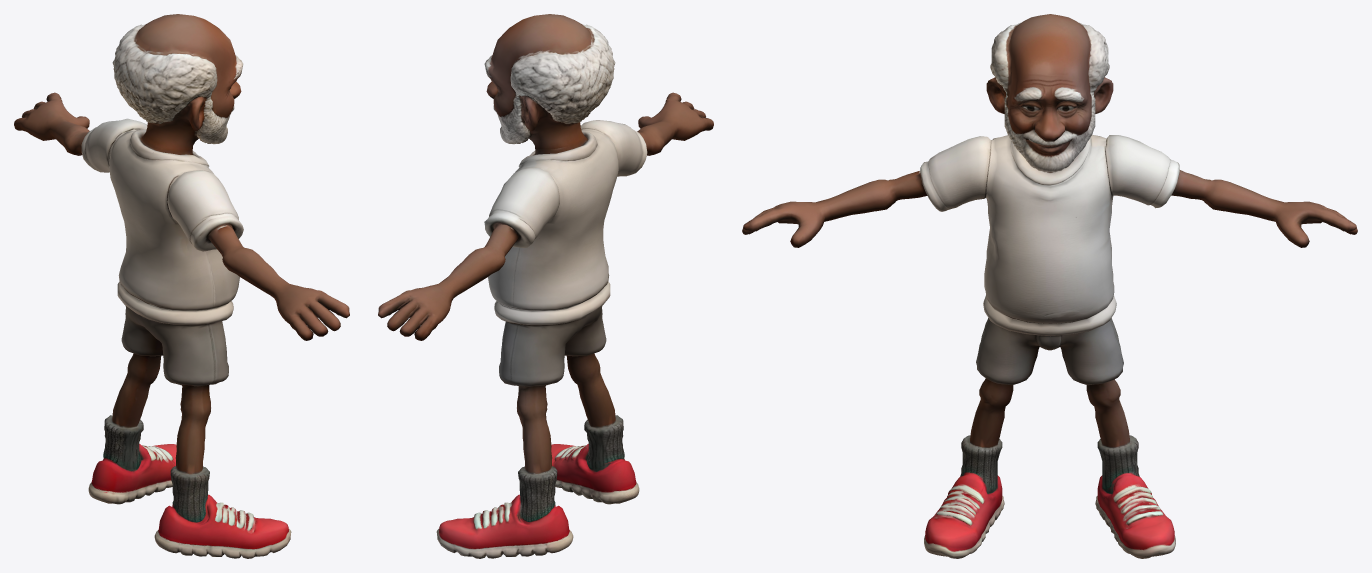
3 renders of one model, left to right at view 1: azimuth 30°, elevation 25°; view 2: azimuth 150°, elevation 25°; view 3: azimuth 270°, elevation 25°, orthographic. The views are drawn at different scales.
Parts seen in each view (by area): view 1: tripo_node_c8a2c946; view 2: tripo_node_c8a2c946; view 3: tripo_node_c8a2c946.
Boxes of the visible parts, left/top/right/bottom form: tripo_node_c8a2c946: left=14, top=14, right=349, bottom=558; tripo_node_c8a2c946: left=378, top=14, right=713, bottom=558; tripo_node_c8a2c946: left=742, top=14, right=1357, bottom=558.
Bounding box in the file's own units: 0.2231 × 0.9256 × 1.
1 material, 1 textured.
